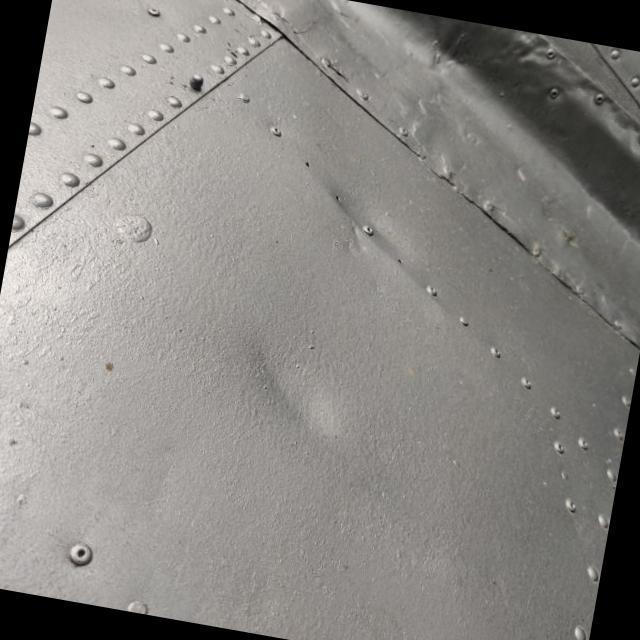Dent: (178, 282, 408, 494)
